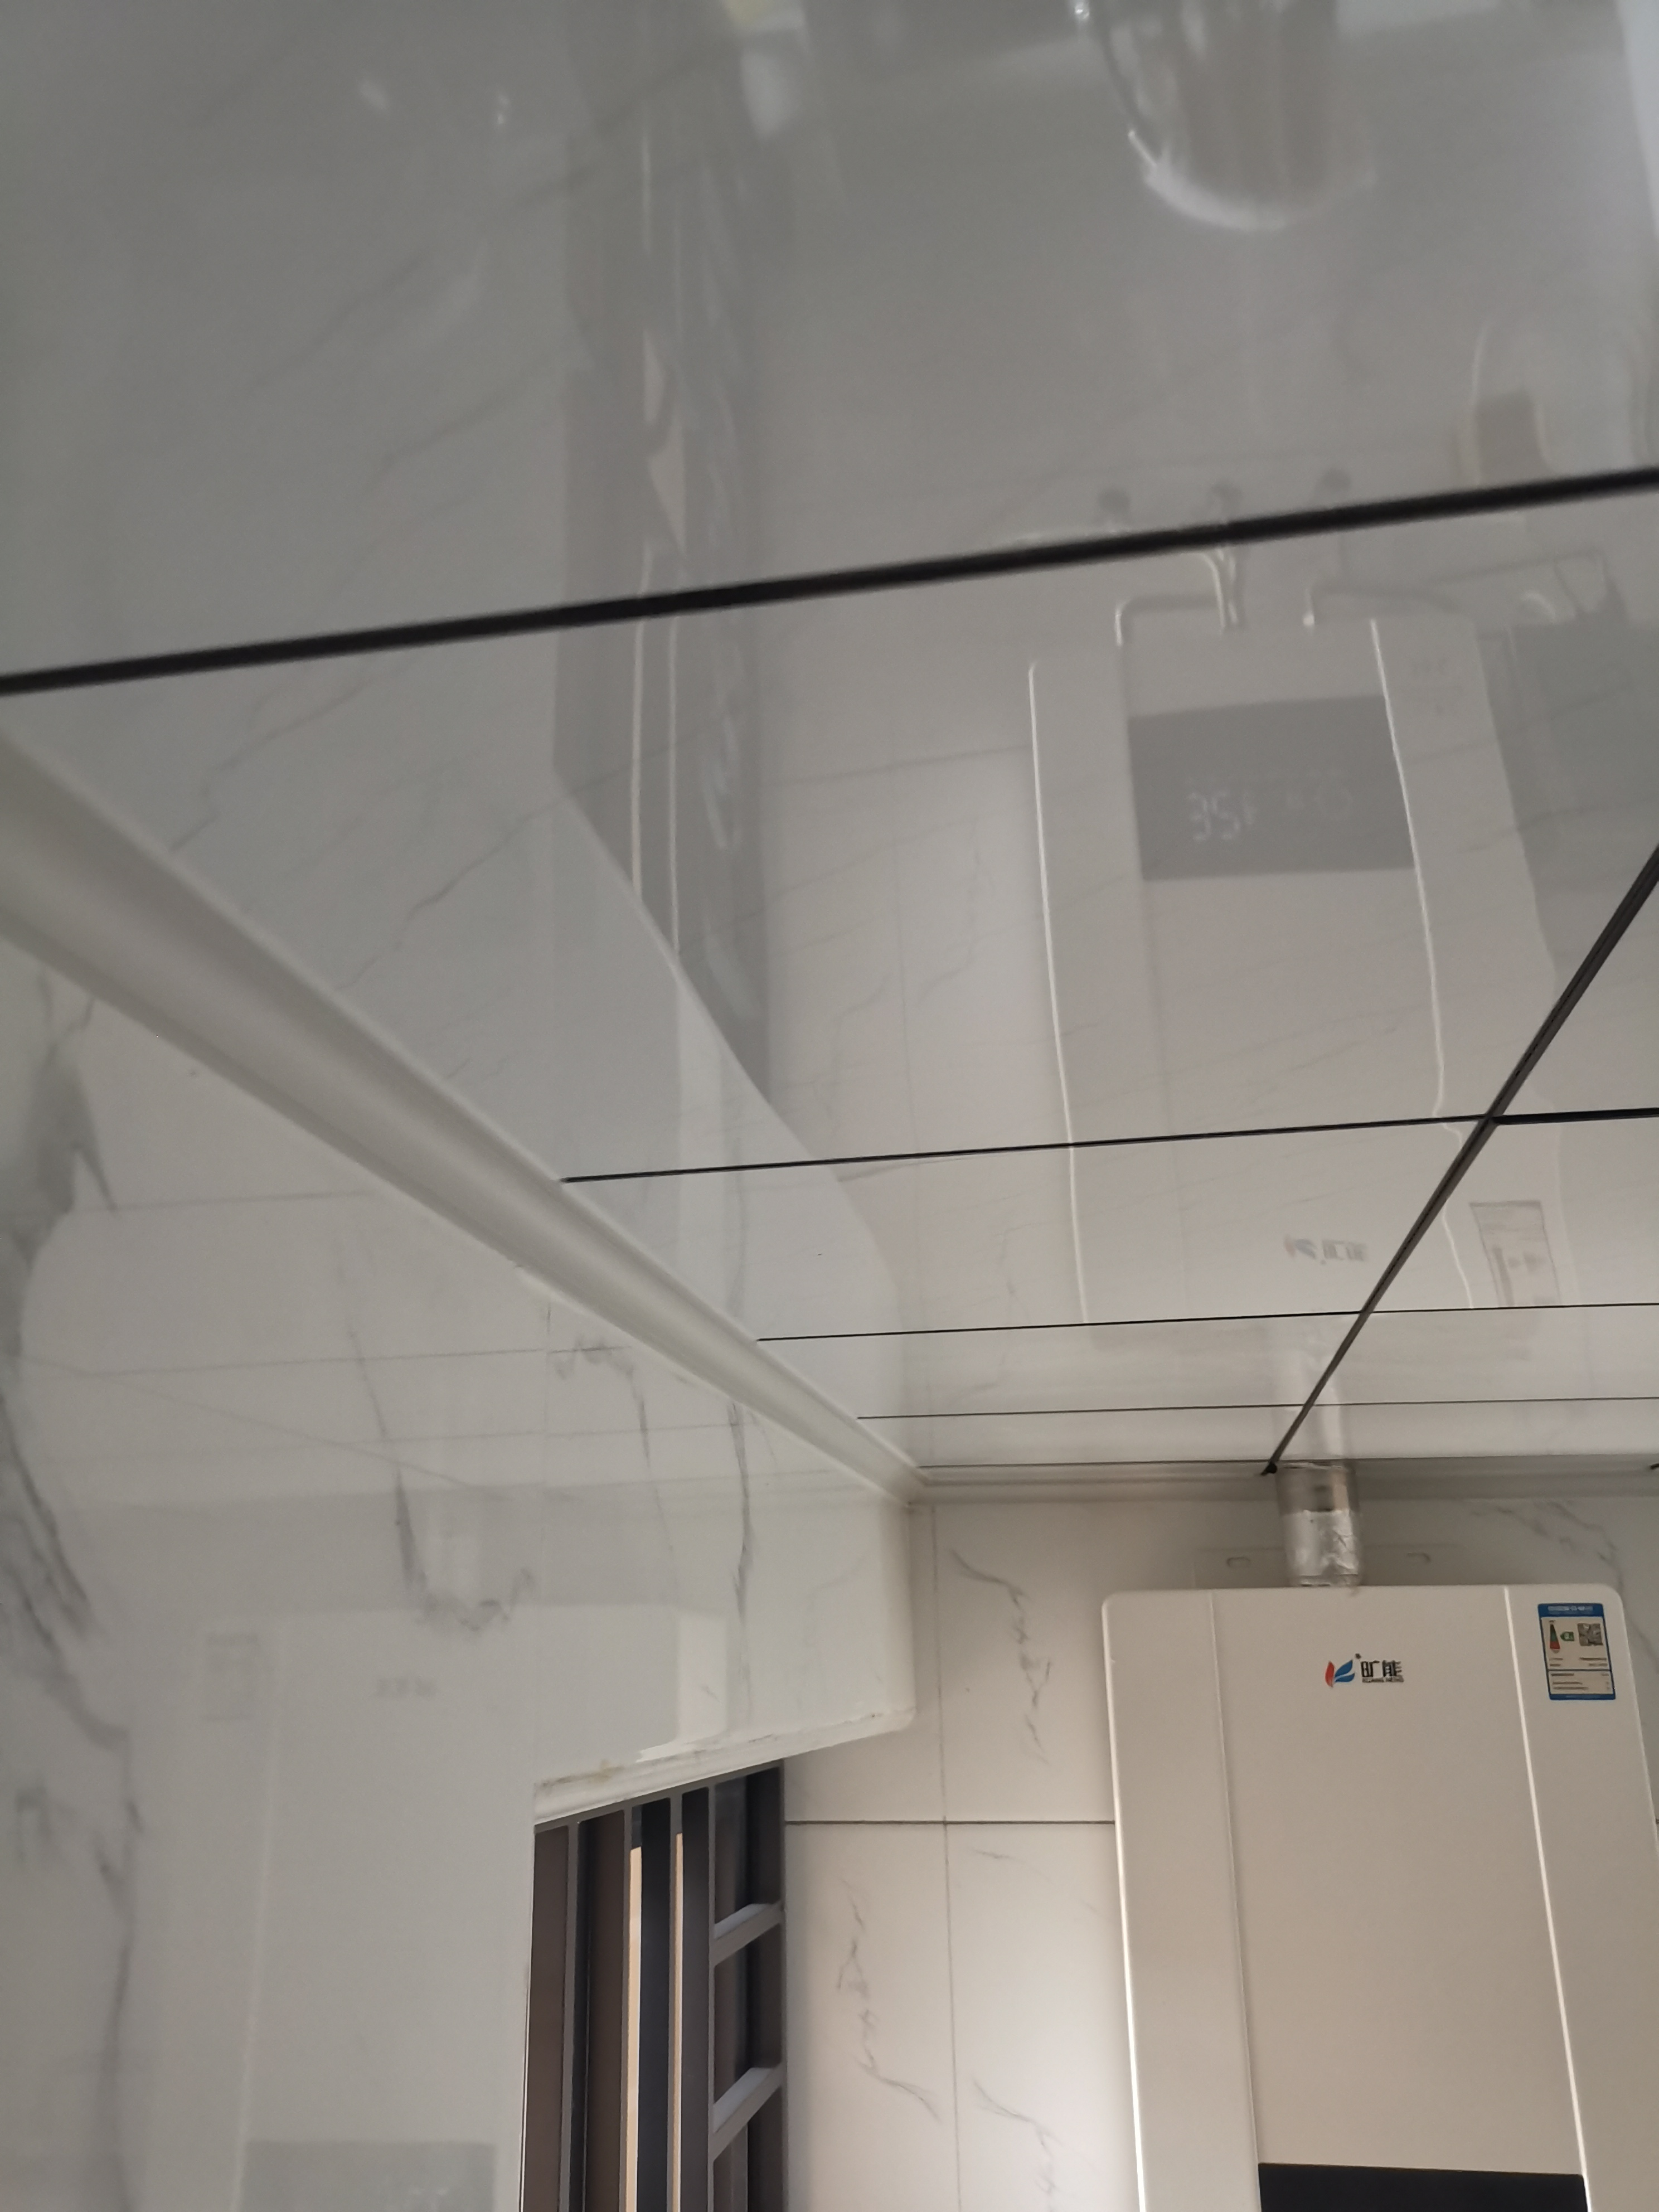loudou: (1300, 1635, 1434, 1707)
